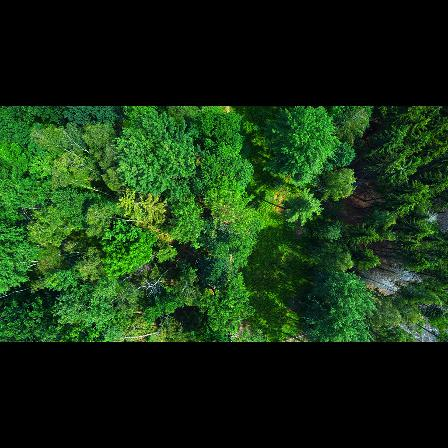Dead: (354, 273, 396, 291), (377, 265, 421, 280), (414, 322, 446, 340), (426, 210, 441, 226)
